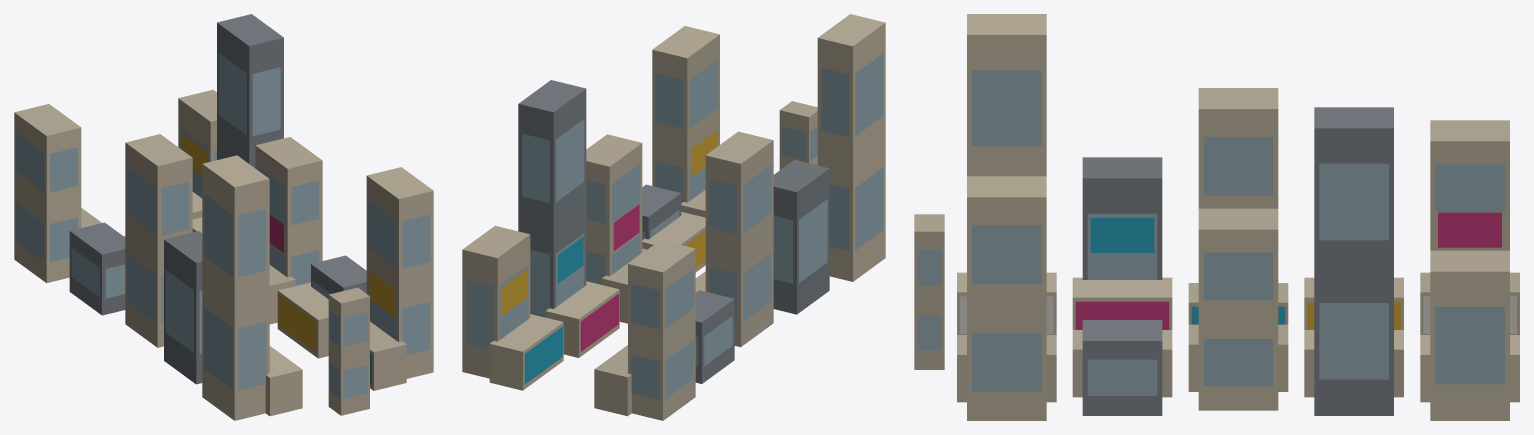
The picture shows the model from 3 angles, left to right: view 1: azimuth 30°, elevation 25°; view 2: azimuth 150°, elevation 25°; view 3: azimuth 270°, elevation 25°; orthographic projection. The views are drawn at different scales.
Visible parts, largest first — view 1: times-square-lod3; view 2: times-square-lod3; view 3: times-square-lod3.
Part boxes in pixels (x1,y1,x2,y2): times-square-lod3: (14, 14, 433, 420); times-square-lod3: (462, 14, 885, 420); times-square-lod3: (914, 14, 1519, 420).
Size of the model in its own units: 205 by 230 by 439.
